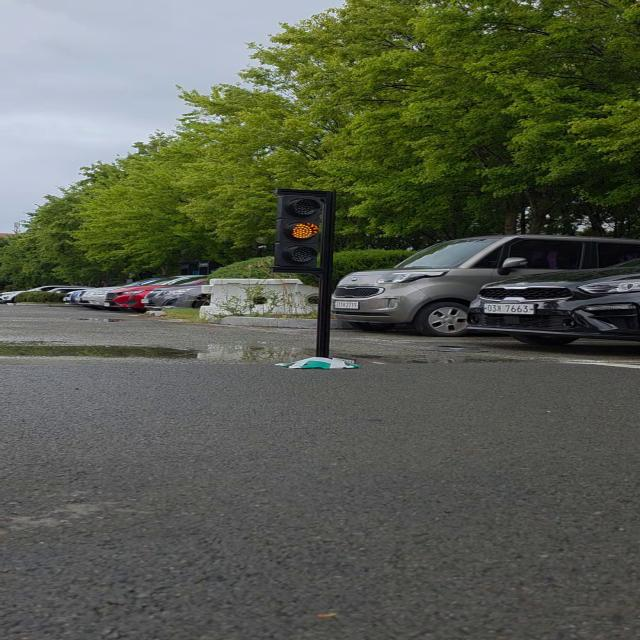yellow: (261, 180, 336, 275)
